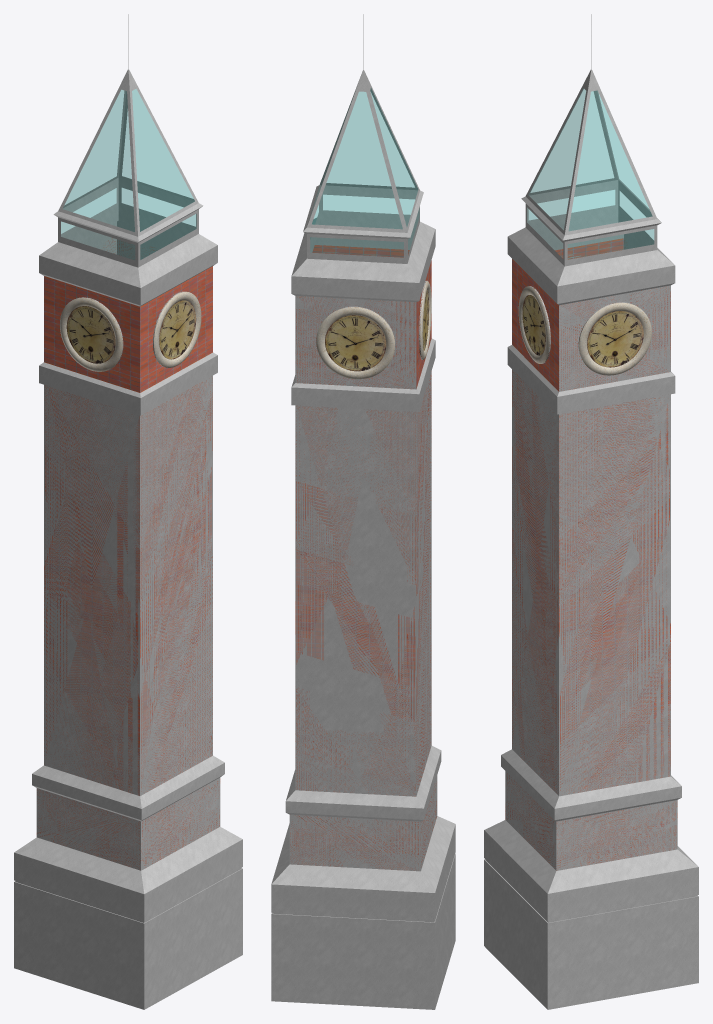
3 renders of one model, left to right at view 1: azimuth 30°, elevation 25°; view 2: azimuth 150°, elevation 25°; view 3: azimuth 270°, elevation 25°, orthographic.
Parts seen in each view (by area): view 1: mesh26_mesh26-geometry, mesh27_mesh27-geometry, mesh1_mesh1-geometry, mesh23_mesh23-geometry, mesh25_mesh25-geometry; view 2: mesh26_mesh26-geometry, mesh27_mesh27-geometry, mesh24_mesh24-geometry, mesh1_mesh1-geometry, mesh25_mesh25-geometry, mesh23_mesh23-geometry; view 3: mesh26_mesh26-geometry, mesh27_mesh27-geometry, mesh1_mesh1-geometry, mesh22_mesh22-geometry, mesh25_mesh25-geometry, mesh23_mesh23-geometry.
Boxes of the visible parts, left/top/right/bottom form: mesh26_mesh26-geometry: left=14, top=352, right=242, bottom=1009; mesh27_mesh27-geometry: left=39, top=14, right=217, bottom=306; mesh1_mesh1-geometry: left=60, top=291, right=201, bottom=371; mesh23_mesh23-geometry: left=44, top=276, right=139, bottom=392; mesh25_mesh25-geometry: left=140, top=266, right=212, bottom=392; mesh26_mesh26-geometry: left=271, top=338, right=455, bottom=1009; mesh27_mesh27-geometry: left=291, top=14, right=435, bottom=302; mesh24_mesh24-geometry: left=295, top=296, right=416, bottom=389; mesh1_mesh1-geometry: left=316, top=255, right=431, bottom=379; mesh25_mesh25-geometry: left=312, top=245, right=409, bottom=257; mesh23_mesh23-geometry: left=416, top=260, right=431, bottom=388; mesh26_mesh26-geometry: left=484, top=345, right=698, bottom=1009; mesh27_mesh27-geometry: left=507, top=14, right=675, bottom=305; mesh1_mesh1-geometry: left=518, top=255, right=651, bottom=375; mesh22_mesh22-geometry: left=559, top=285, right=670, bottom=391; mesh25_mesh25-geometry: left=512, top=259, right=558, bottom=391; mesh23_mesh23-geometry: left=555, top=238, right=623, bottom=259.
Bounding box in the file's own units: 0.1966 × 0.9606 × 0.1966.
